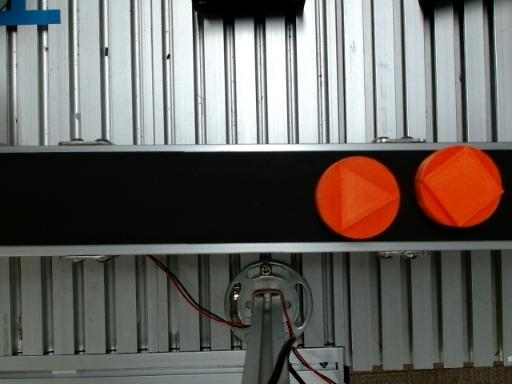Not_Square: (339, 163, 399, 232)
Orange_Waper: (415, 146, 503, 227), (315, 156, 400, 238)
Square: (424, 146, 506, 228)
